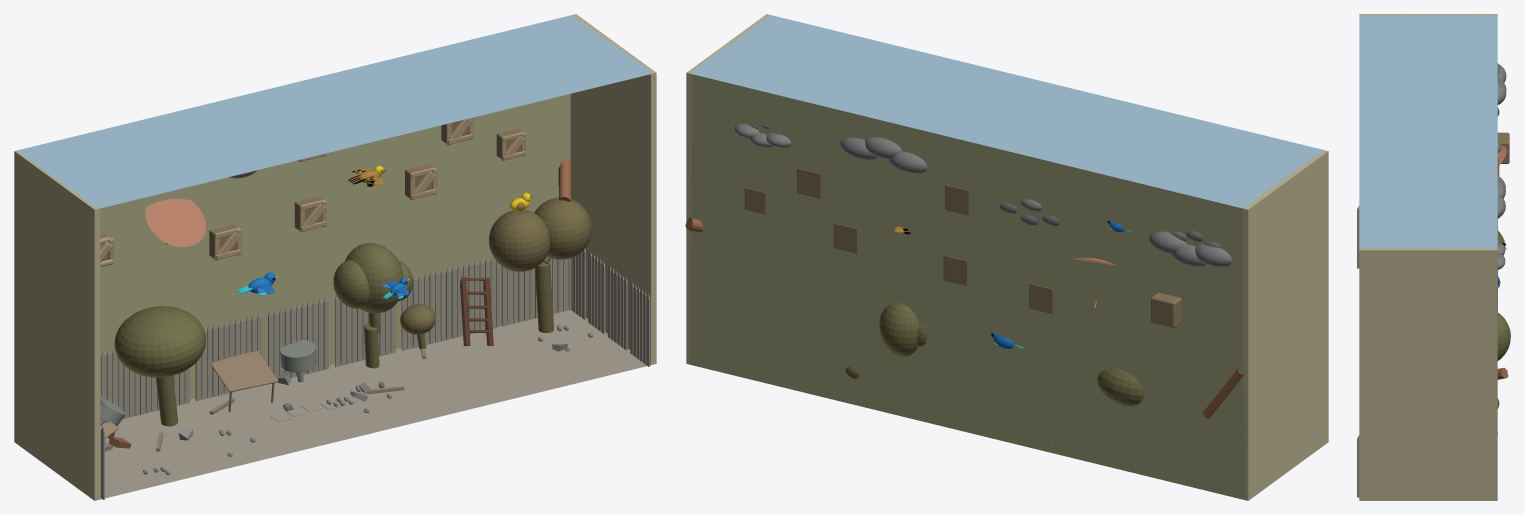
Rendered from Patio.fbx.
3 renders of one model, left to right at view 1: azimuth 30°, elevation 25°; view 2: azimuth 150°, elevation 25°; view 3: azimuth 270°, elevation 25°, orthographic. The views are drawn at different scales.
Parts seen in each view (by area): view 1: Pared, Techo, piso, barda, paredizq, Paredder, Arbol3, Arbol, Arbol2, Sombrilla, mesa.001, Escalera (+7 smaller); view 2: Pared, Techo, paredizq, Nube.001, Arbol2, Paredder, Nube.003, Arbol, cajamadera1.004, Nube.002; view 3: Paredder, Techo, Arbol2, barda, Nube.001, Nube.003, paredizq, cajamadera1.004, Nube.002.
Boxes of the visible parts, <box> form: Pared: <box>100,94,570,413</box>; Techo: <box>17,15,653,208</box>; piso: <box>100,307,650,499</box>; barda: <box>100,248,650,499</box>; paredizq: <box>14,150,100,500</box>; Paredder: <box>570,14,656,364</box>; Arbol3: <box>489,197,591,332</box>; Arbol: <box>114,306,205,426</box>; Arbol2: <box>333,243,412,368</box>; Sombrilla: <box>145,198,205,247</box>; mesa.001: <box>210,351,278,411</box>; Escalera: <box>460,277,493,346</box>; Pared: <box>689,74,1245,500</box>; Techo: <box>689,15,1325,208</box>; paredizq: <box>1242,150,1328,500</box>; Nube.001: <box>1149,231,1232,267</box>; Arbol2: <box>879,303,927,356</box>; Paredder: <box>686,14,770,364</box>; Nube.003: <box>840,137,927,173</box>; Arbol: <box>1097,368,1143,405</box>; cajamadera1.004: <box>1151,292,1181,327</box>; Nube.002: <box>734,124,791,147</box>; Paredder: <box>1359,248,1497,500</box>; Techo: <box>1359,15,1497,248</box>; Arbol2: <box>1497,313,1510,360</box>; barda: <box>1357,206,1359,497</box>; Nube.001: <box>1497,63,1506,104</box>; Nube.003: <box>1497,176,1505,217</box>; paredizq: <box>1359,14,1497,16</box>; cajamadera1.004: <box>1497,132,1509,163</box>; Nube.002: <box>1497,242,1505,269</box>.
Size of the model in its own units: 2020 by 1012 by 556.
